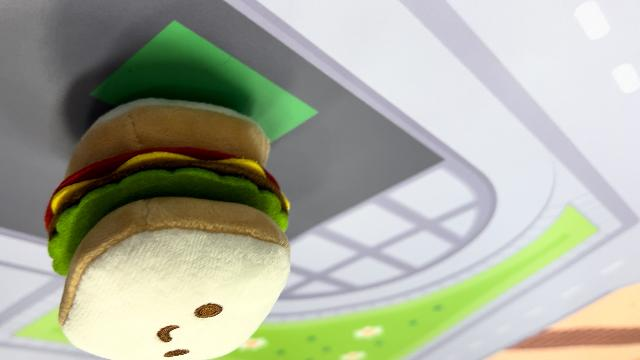sandwich: (42, 95, 296, 357)
